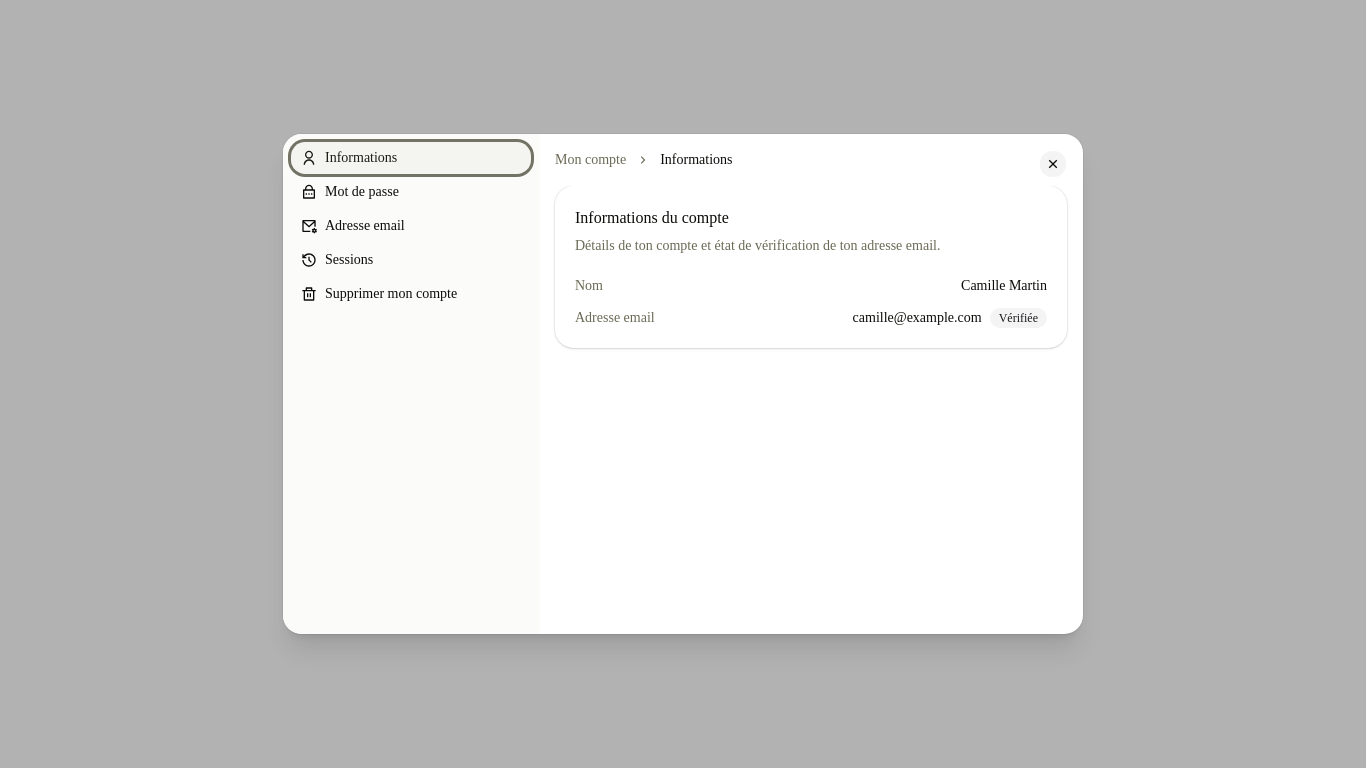
Test: AccountDialog › loads the active sessions when the sessions section is opened
Click the button "Sessions".
click(411, 260)  # box [291,244,531,276]
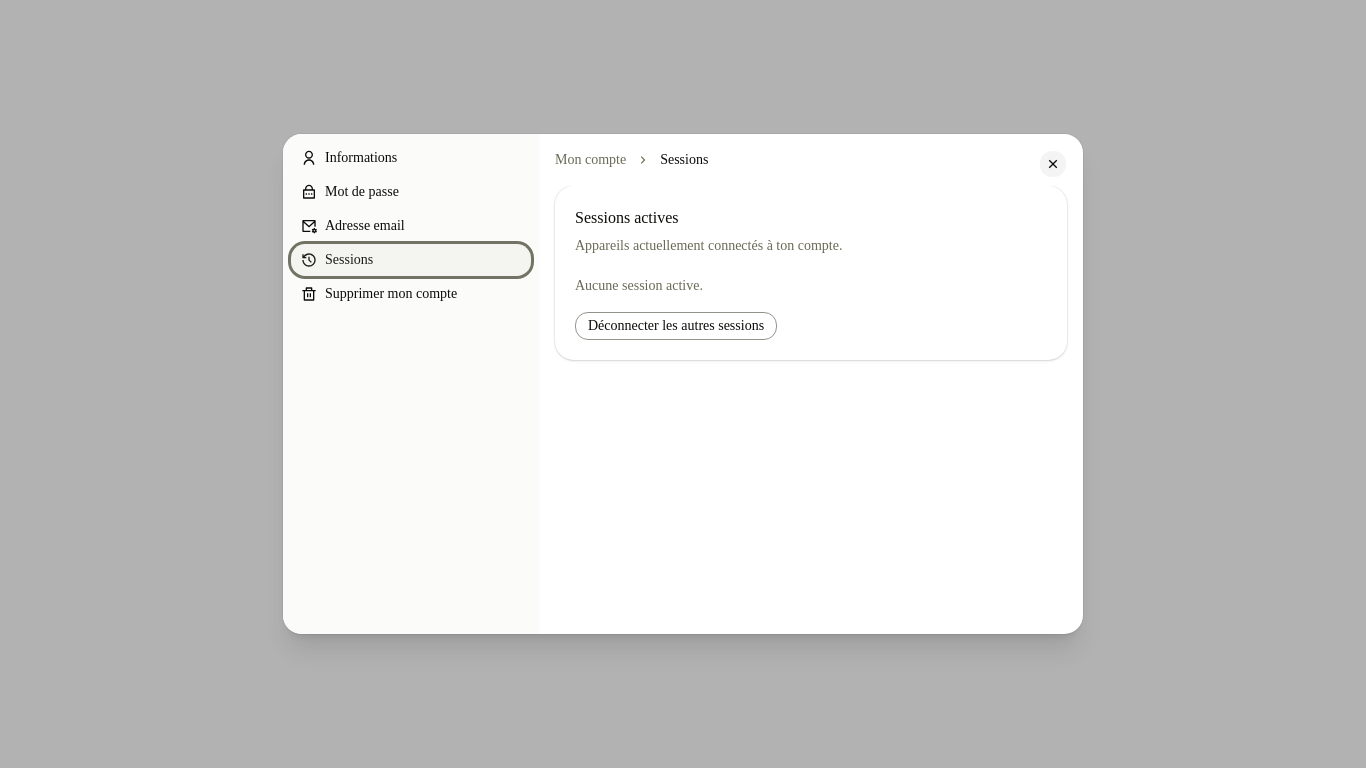
Check: the text "Sessions actives" is shown, box [575,209,678,226]
